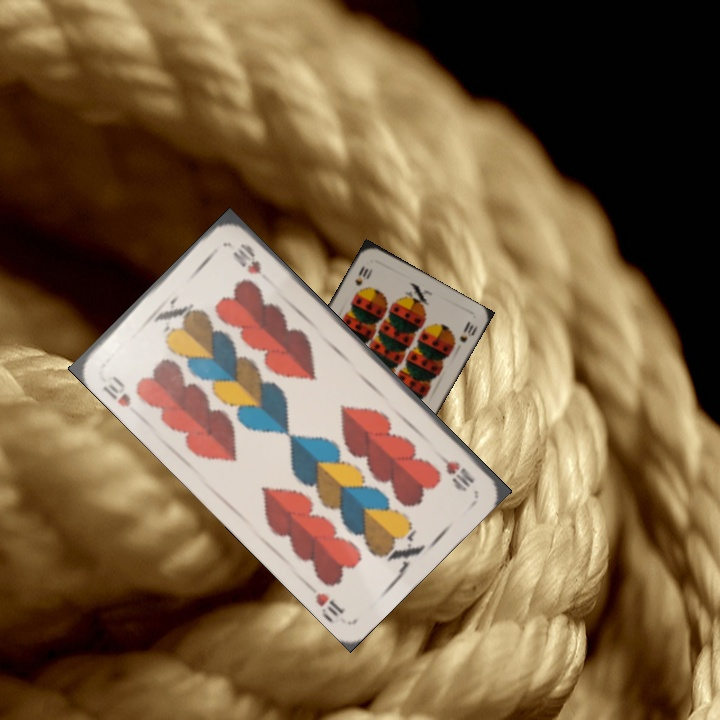H10: (430, 446, 477, 493), (99, 372, 134, 410)
S10: (350, 262, 375, 288)
